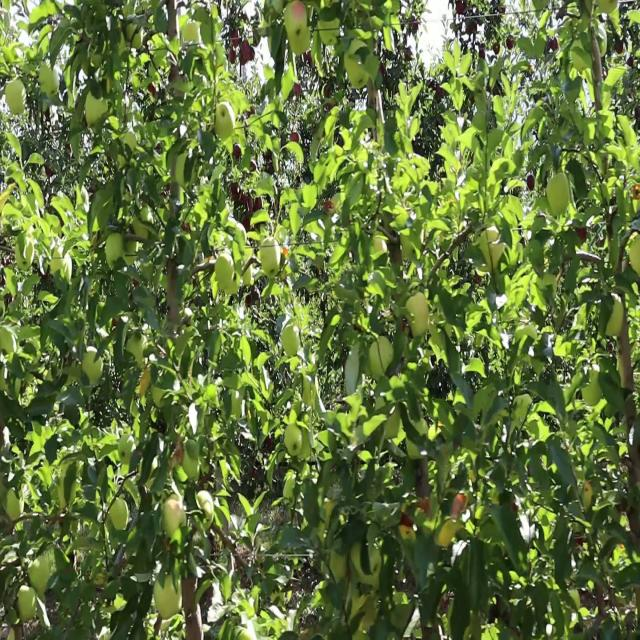apple: (154, 572, 183, 619), (404, 292, 431, 334), (545, 172, 570, 216), (283, 1, 309, 42), (344, 49, 369, 91), (162, 494, 187, 534), (369, 336, 392, 377), (5, 78, 27, 118), (81, 345, 103, 385), (353, 546, 380, 578), (85, 91, 107, 130), (582, 368, 604, 405), (481, 228, 503, 265), (28, 556, 50, 592), (2, 483, 24, 518), (260, 238, 280, 276), (127, 335, 149, 369), (607, 294, 624, 337), (104, 233, 124, 269), (214, 252, 234, 288), (216, 100, 234, 140), (40, 63, 59, 98), (18, 585, 36, 621), (198, 489, 214, 529), (284, 423, 303, 456), (282, 324, 300, 358), (110, 499, 128, 531), (15, 242, 33, 268), (629, 234, 640, 273)
